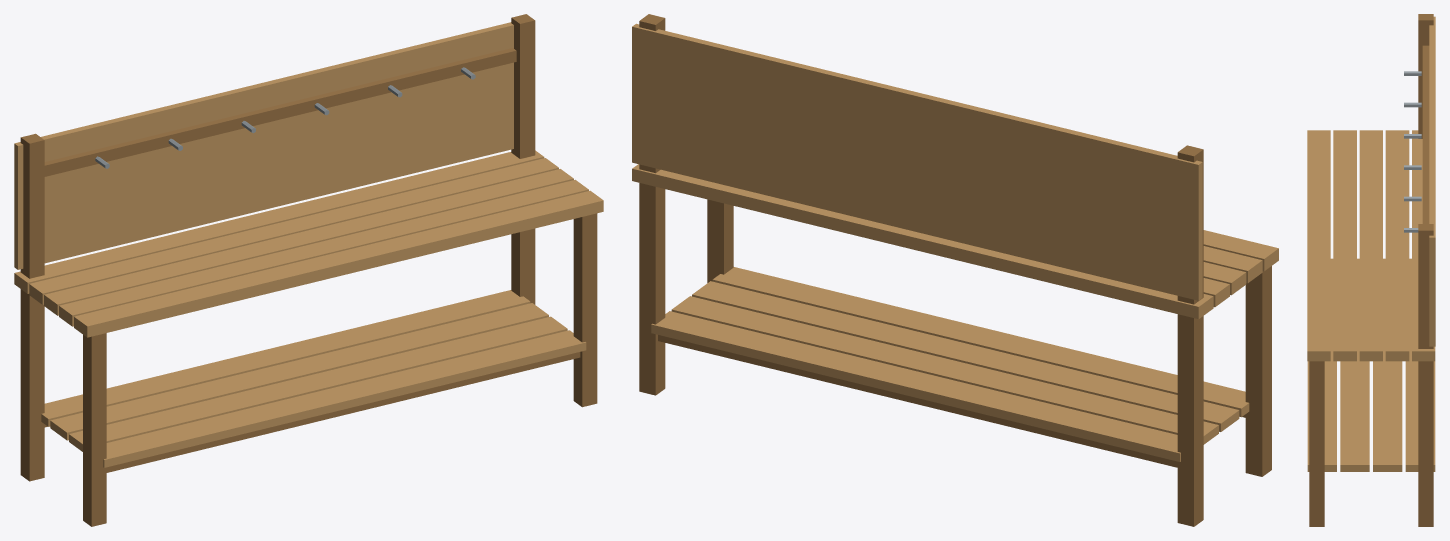
The model's file is PottingBench.fbx.
3 renders of one model, left to right at view 1: azimuth 30°, elevation 25°; view 2: azimuth 150°, elevation 25°; view 3: azimuth 270°, elevation 25°, orthographic. The views are drawn at different scales.
Parts seen in each view (by area): view 1: PottingBench; view 2: PottingBench; view 3: PottingBench.
Part boxes in pixels (box(x1,y1,x2,y2)): PottingBench: box(14, 14, 603, 526); PottingBench: box(632, 14, 1278, 526); PottingBench: box(1307, 14, 1435, 526).
Bounding box in the file's own units: 2.4 × 1.5 × 0.589.
